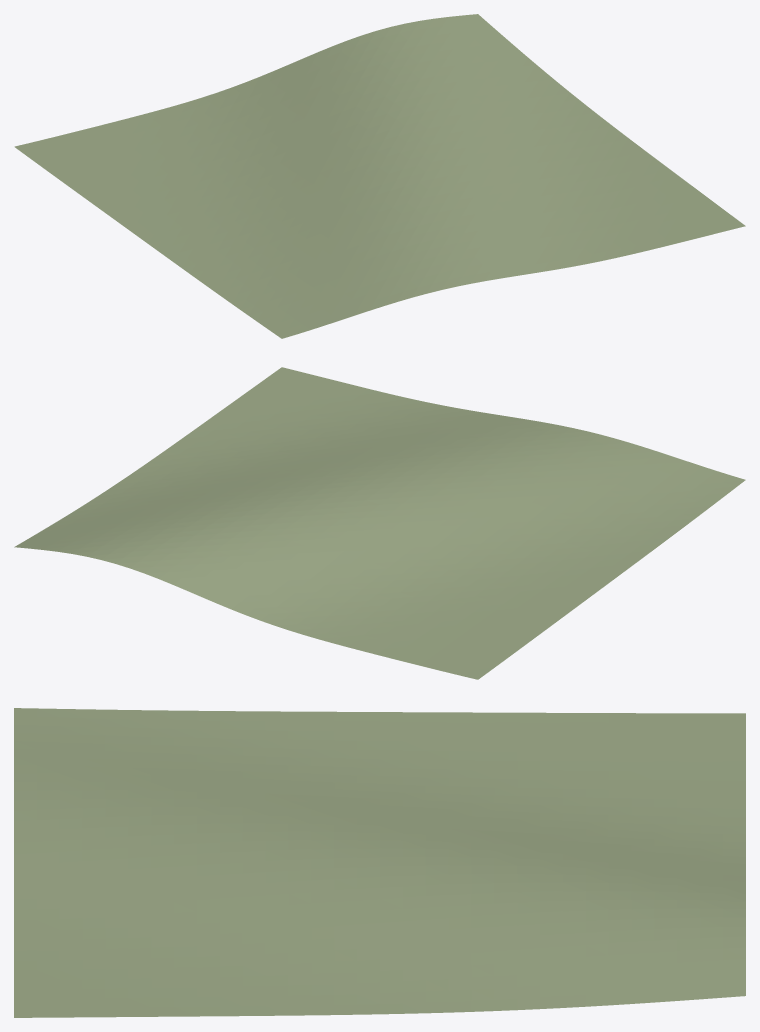
The model's file is desert-2-8.glb.
3 renders of one model, top to bottom at view 1: azimuth 30°, elevation 25°; view 2: azimuth 150°, elevation 25°; view 3: azimuth 270°, elevation 25°, orthographic. The views are drawn at different scales.
Visible parts, largest first — view 1: desert-2-8; view 2: desert-2-8; view 3: desert-2-8.
Part boxes in pixels (left/top/right/bottom): desert-2-8: left=14, top=14, right=745, bottom=338; desert-2-8: left=14, top=367, right=745, bottom=679; desert-2-8: left=14, top=708, right=745, bottom=1017.
Size of the model in its own units: 512 by 29.54 by 512.
